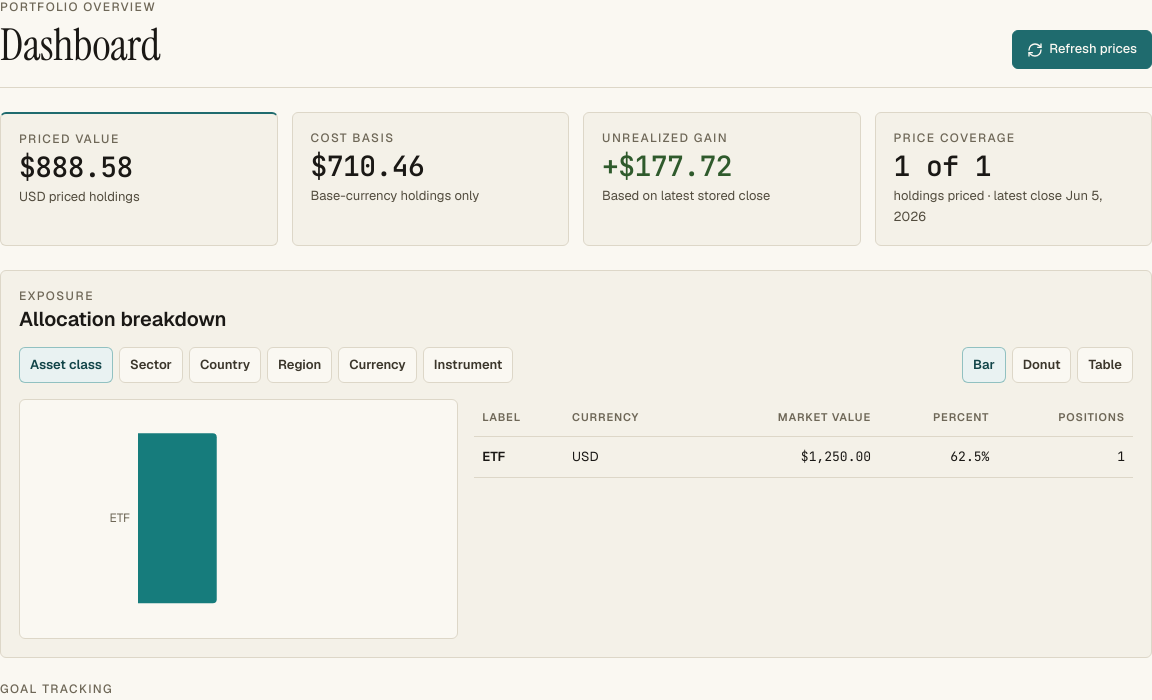
Test case: DashboardPage › renders an empty state when the selected breakdown has no rows
This screenshot has width=1152, height=700.
Click the button "Sector" at (151,365), box [119,347,183,383]
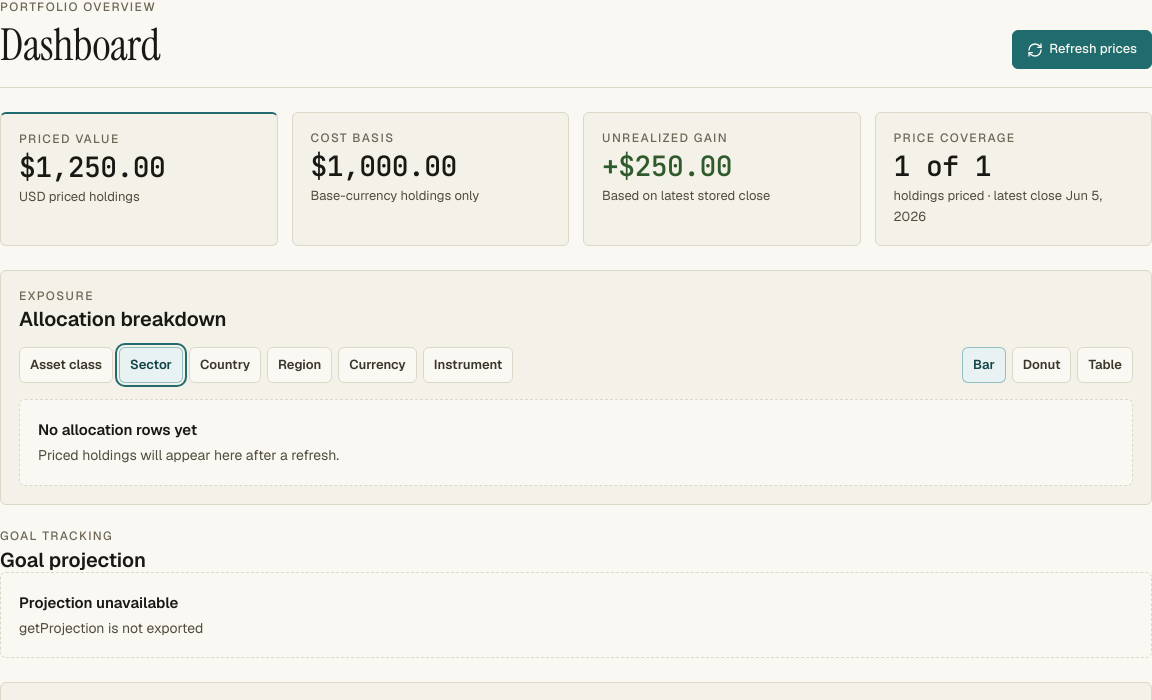
expect the text "No allocation rows yet" is shown: met, box [38,420,197,439]
